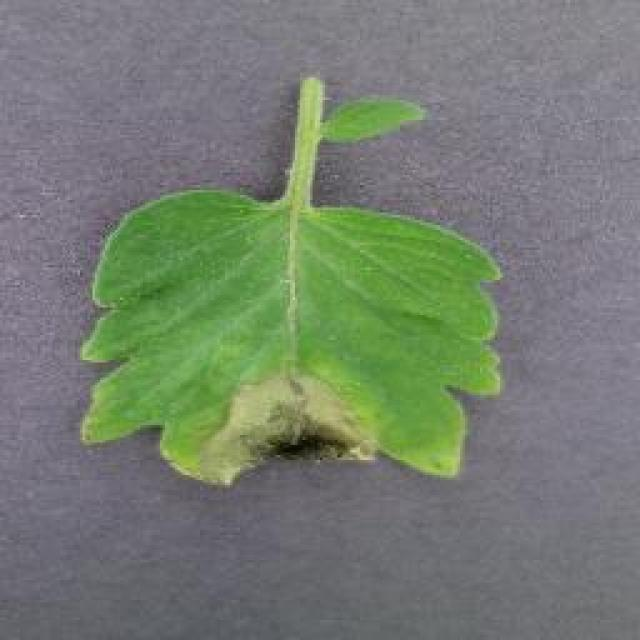Tomato Late Blight: (222, 350, 405, 512)
